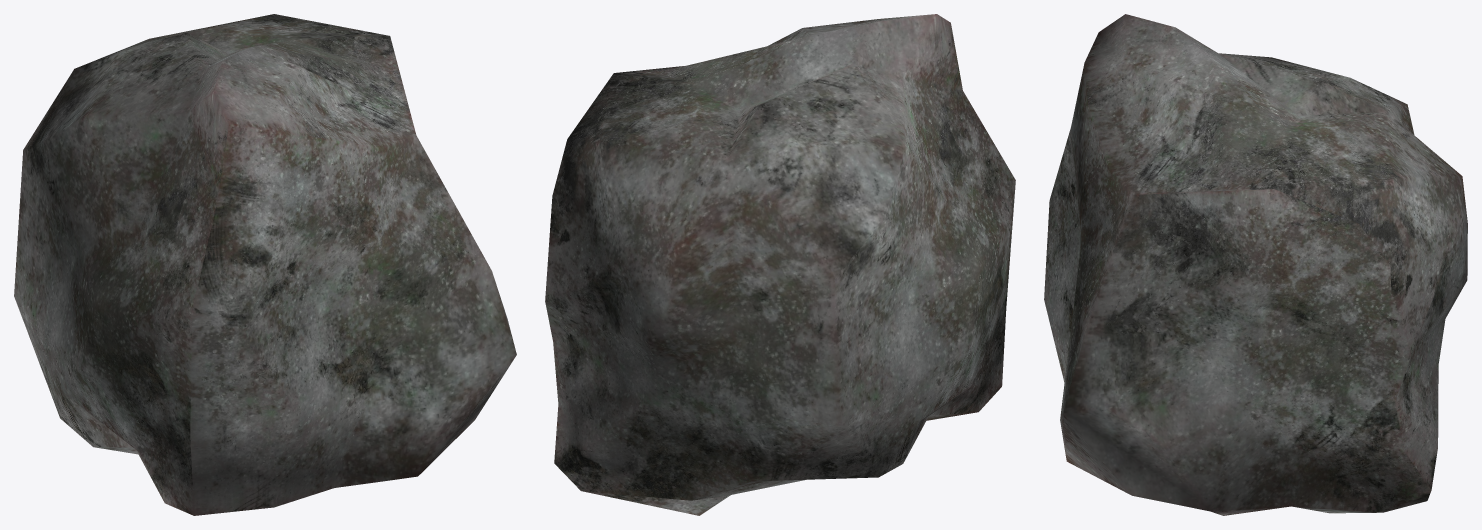
The picture shows the model from 3 angles, left to right: view 1: azimuth 30°, elevation 25°; view 2: azimuth 150°, elevation 25°; view 3: azimuth 270°, elevation 25°; orthographic projection. The views are drawn at different scales.
Parts seen in each view (by area): view 1: rock_Lowpoly; view 2: rock_Lowpoly; view 3: rock_Lowpoly.
Part boxes in pixels (x1,y1,x2,y2): rock_Lowpoly: (14, 14, 516, 515); rock_Lowpoly: (545, 14, 1015, 515); rock_Lowpoly: (1044, 14, 1467, 515).
Bounding box in the file's own units: 1.65 × 2 × 1.74.
1 material, 1 textured.
